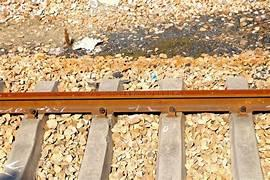mulch: (73, 33, 104, 54)
